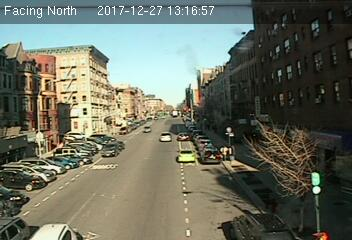car: (231, 213, 297, 240), (200, 147, 222, 163), (99, 142, 119, 158), (176, 148, 197, 163), (177, 132, 191, 143), (159, 132, 172, 141)
